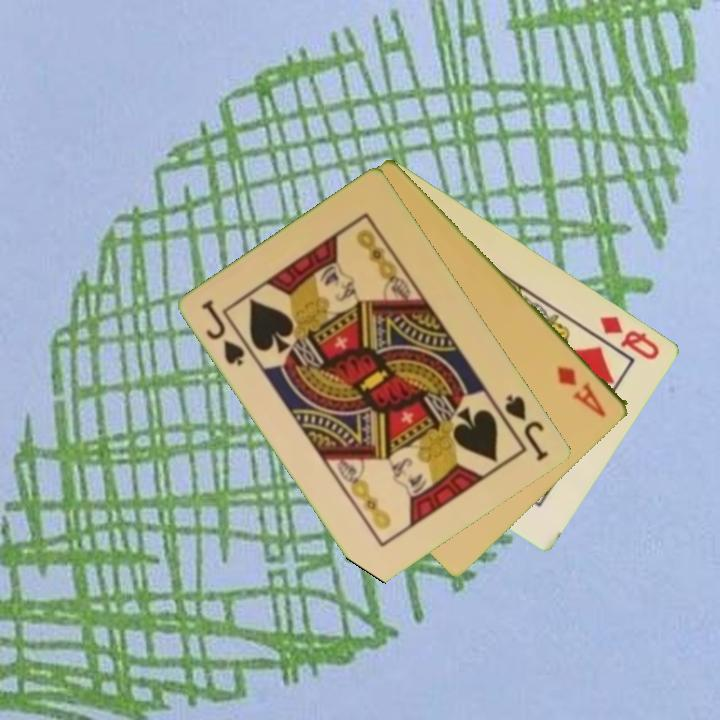Ad: (554, 362, 610, 420)
Js: (501, 390, 552, 465), (198, 296, 249, 369)
Qd: (597, 312, 664, 363)
